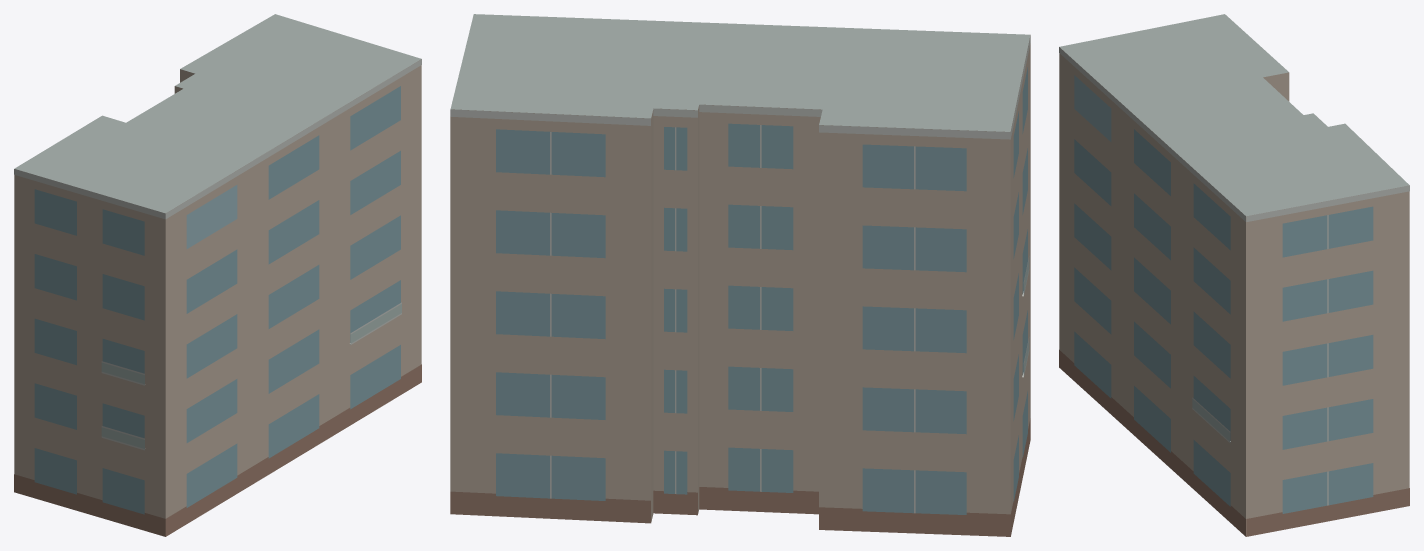
The model's file is survey-upis-32728474.glb.
3 views of the same model, side by side, from view 1: azimuth 30°, elevation 25°; view 2: azimuth 150°, elevation 25°; view 3: azimuth 270°, elevation 25° (orthographic). The views are drawn at different scales.
Parts seen in each view (by area): view 1: survey-upis-32728474.tmp; view 2: survey-upis-32728474.tmp; view 3: survey-upis-32728474.tmp.
Part boxes in pixels (box(x1,y1,x2,y2)): survey-upis-32728474.tmp: box(14, 14, 421, 536); survey-upis-32728474.tmp: box(450, 14, 1030, 536); survey-upis-32728474.tmp: box(1059, 14, 1409, 536).
Bounding box in the file's own units: 17.74 × 13.1 × 13.
